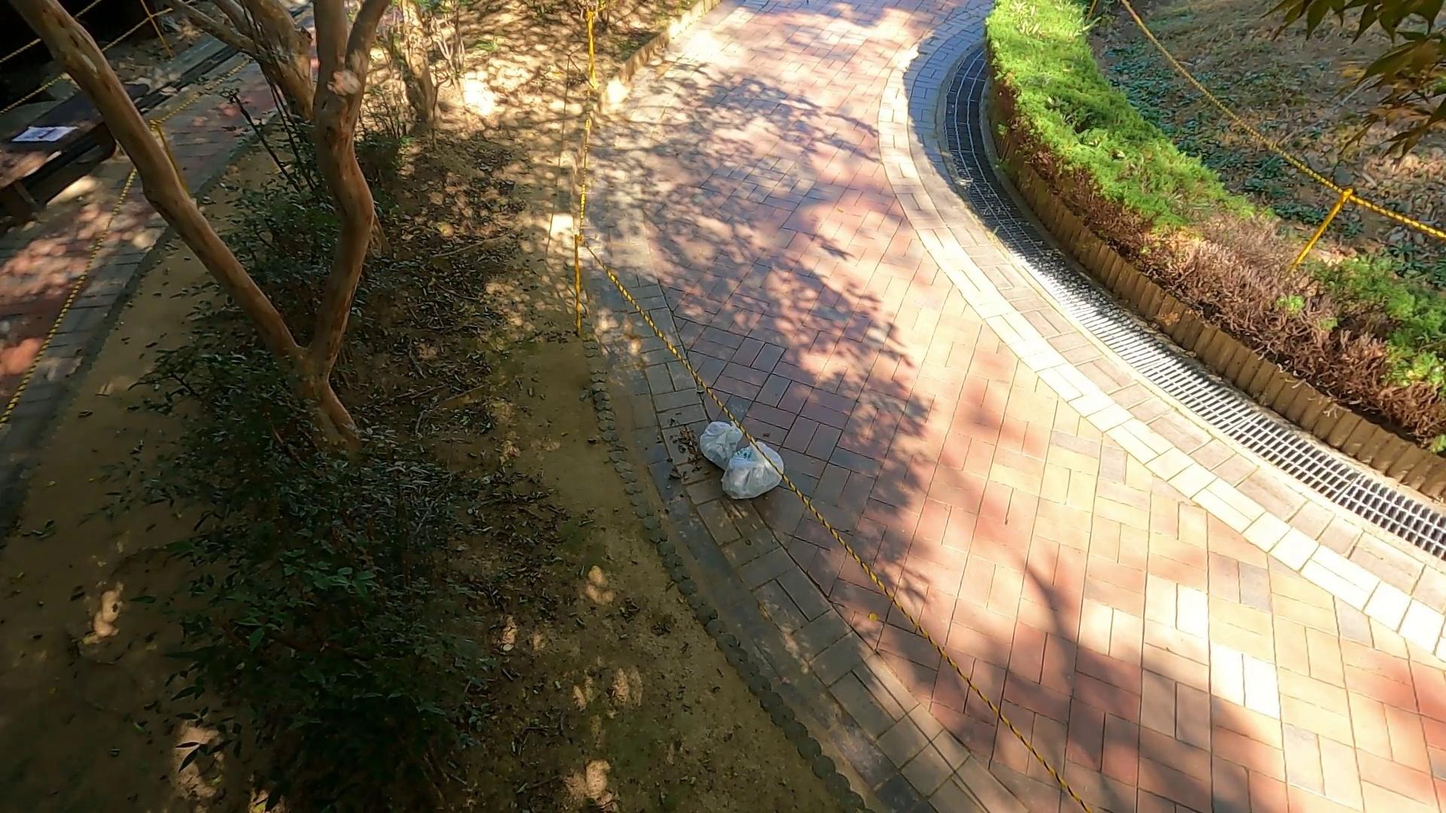trash: (717, 435, 788, 509), (694, 417, 747, 476)
